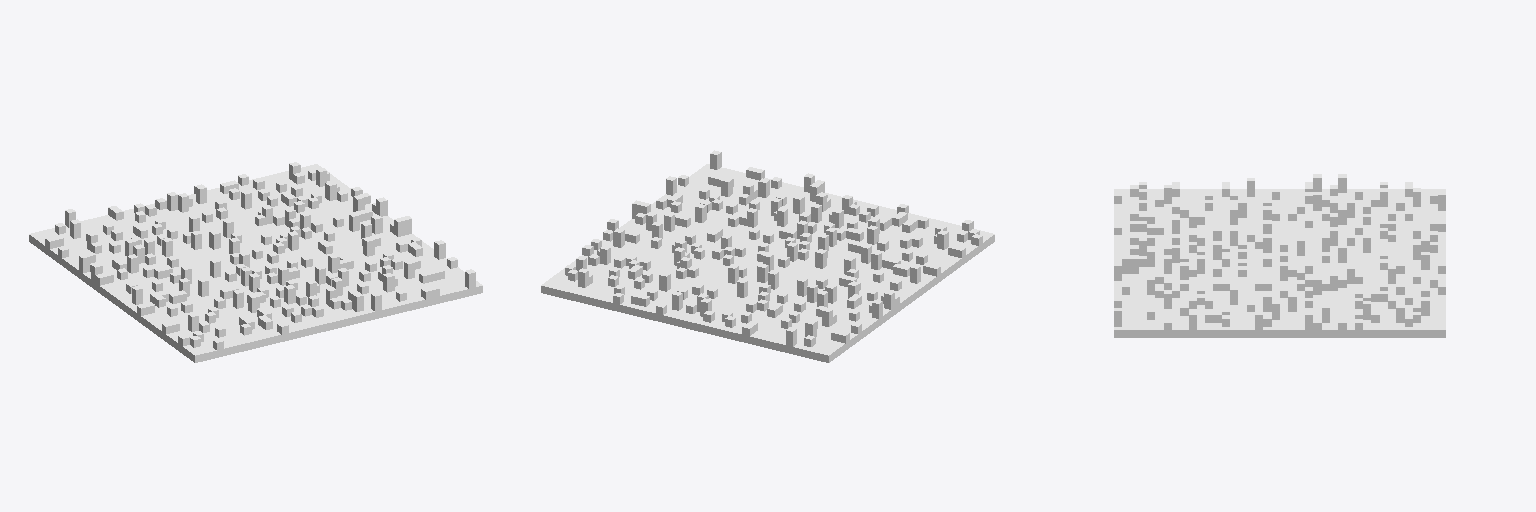
File: dirt_floor_50-75.obj
3 renders of one model, left to right at view 1: azimuth 30°, elevation 25°; view 2: azimuth 150°, elevation 25°; view 3: azimuth 270°, elevation 25°, orthographic.
Visible parts, largest first — view 1: object 1; view 2: object 1; view 3: object 1.
Boxes of the visible parts, x1=… form: object 1: x1=29, y1=162, x2=482, y2=362; object 1: x1=541, y1=150, x2=994, y2=362; object 1: x1=1114, y1=174, x2=1445, y2=337.
Size of the model in its own units: 4 by 0.3 by 4.